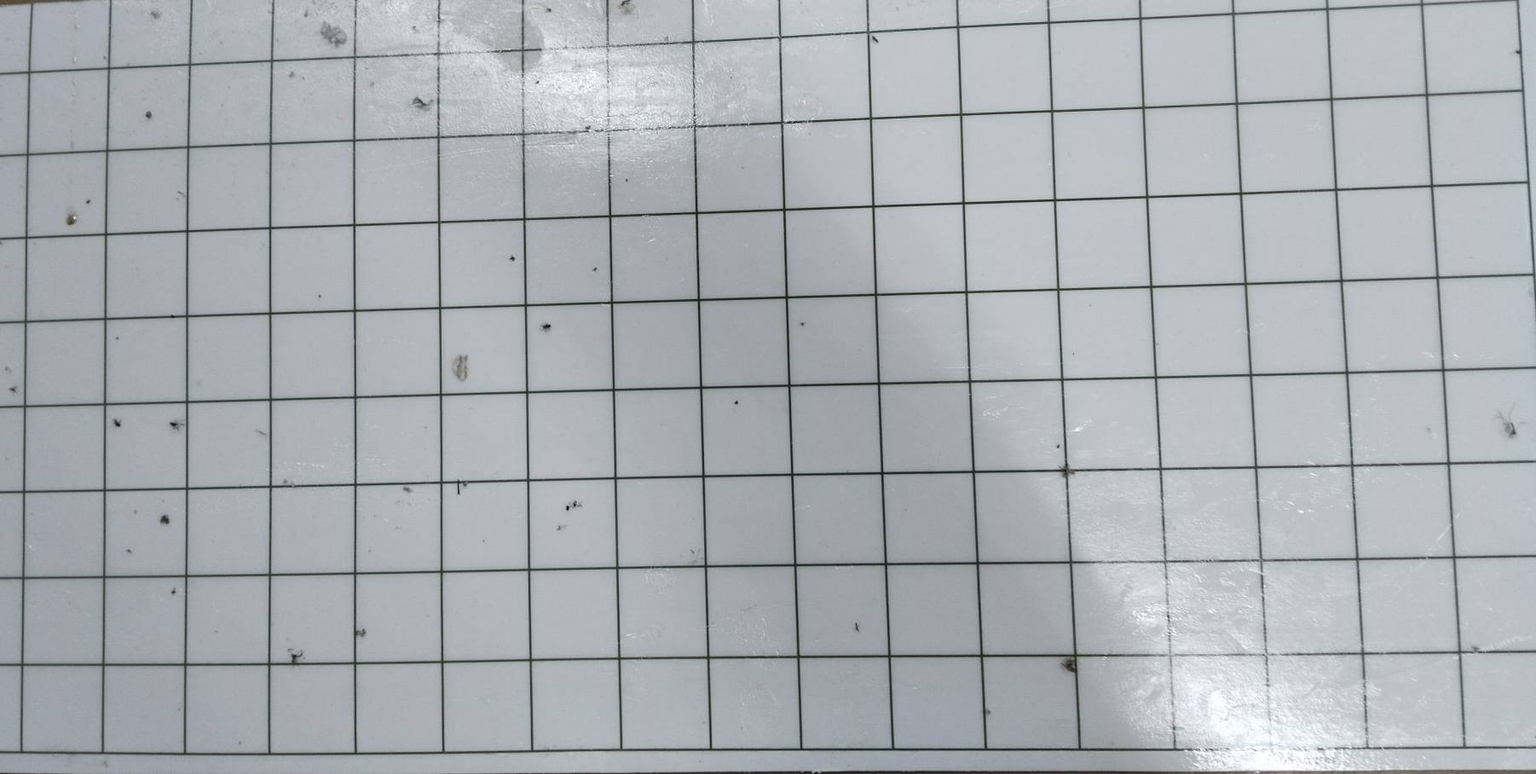test: (1059, 651, 1084, 679), (1054, 458, 1078, 480), (537, 319, 559, 338), (60, 210, 82, 229), (1503, 422, 1522, 441), (288, 650, 306, 669), (562, 496, 581, 514), (167, 416, 185, 434), (454, 477, 469, 496), (158, 512, 174, 529), (353, 624, 370, 639), (851, 620, 865, 637), (399, 484, 413, 498), (111, 416, 125, 429), (6, 383, 20, 396), (545, 2, 556, 18), (143, 109, 158, 120), (870, 32, 881, 47), (121, 546, 136, 556), (169, 585, 181, 597), (588, 262, 601, 273), (84, 195, 95, 208), (1512, 43, 1523, 56), (508, 253, 517, 266), (797, 318, 807, 329), (534, 78, 542, 89), (733, 398, 741, 407)
